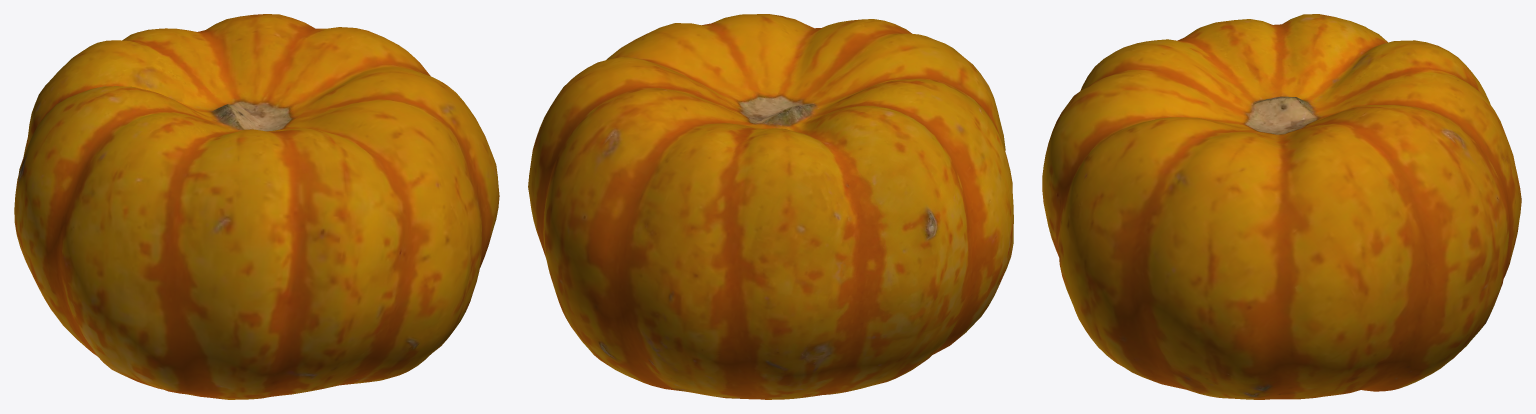
Rendered from pumpkin-4.glb.
The picture shows the model from 3 angles, left to right: view 1: azimuth 30°, elevation 25°; view 2: azimuth 150°, elevation 25°; view 3: azimuth 270°, elevation 25°; orthographic projection. The views are drawn at different scales.
Visible parts, largest first — view 1: Yellow Pumpkin; view 2: Yellow Pumpkin; view 3: Yellow Pumpkin.
Boxes of the visible parts, bbox=[...] form: Yellow Pumpkin: bbox=[14, 14, 499, 399]; Yellow Pumpkin: bbox=[528, 14, 1013, 399]; Yellow Pumpkin: bbox=[1042, 14, 1521, 399].
Bounding box in the file's own units: 0.2914 × 0.1921 × 0.2965.
1 material, 1 textured.
